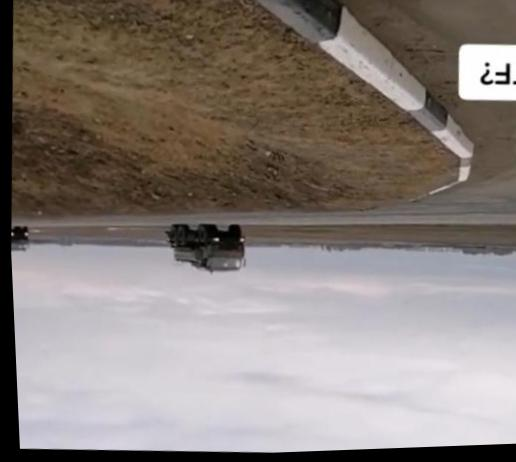truck: (160, 218, 248, 277), (10, 219, 30, 253)
